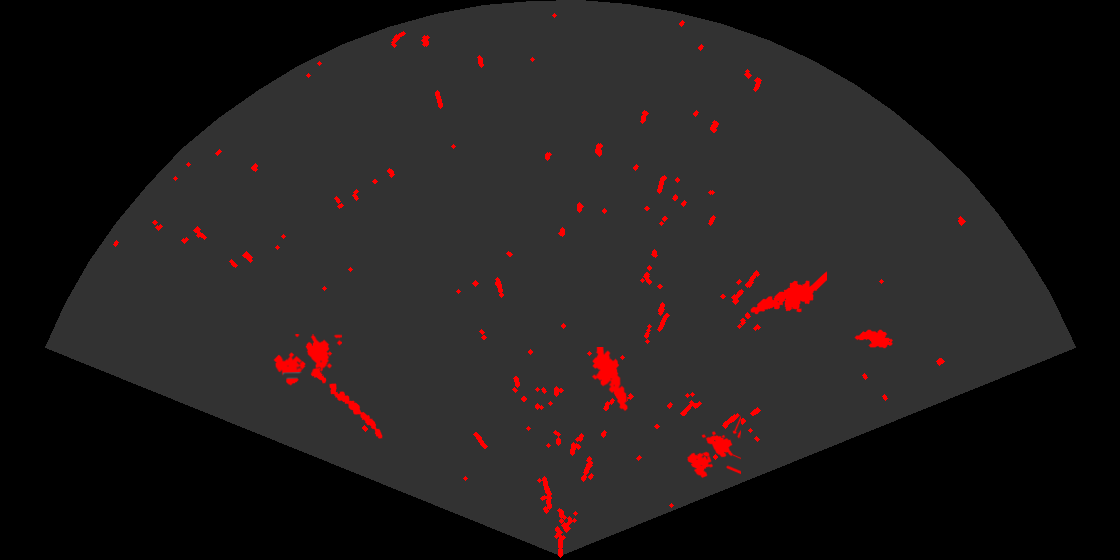AUV: (853, 328, 894, 350)
cage: (272, 334, 342, 387), (685, 414, 741, 480)
chain: (309, 366, 384, 440)
frogman: (749, 270, 827, 316), (590, 347, 630, 412)
